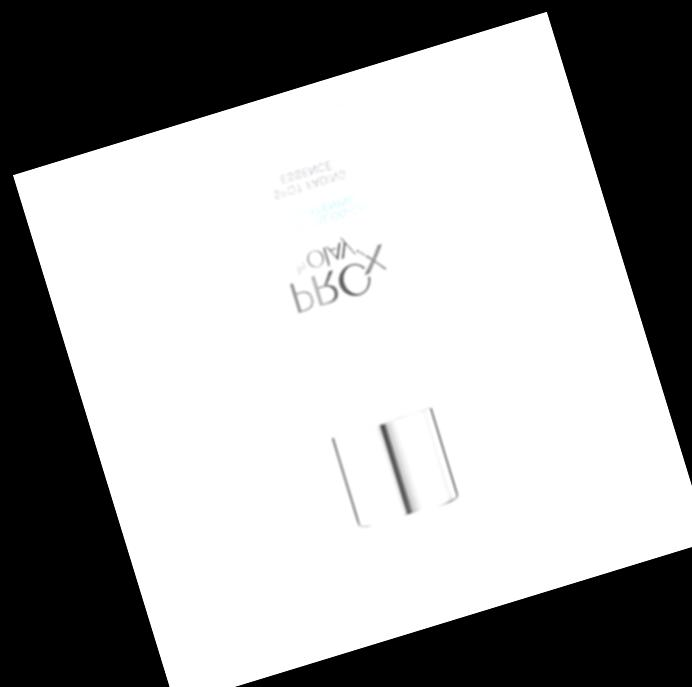cosmetic: (226, 106, 505, 614)
